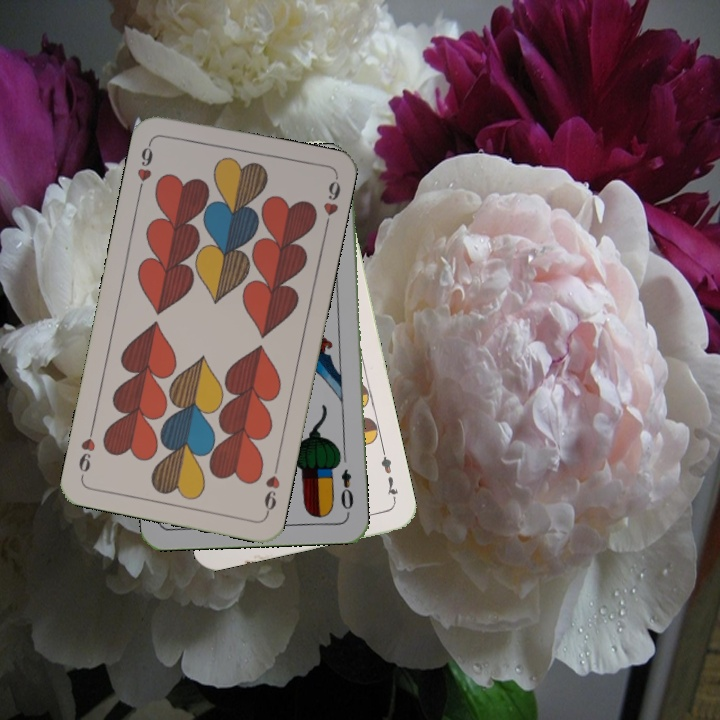E7: (377, 446, 401, 505)
EO: (336, 465, 356, 512)
H9: (260, 459, 283, 518), (133, 137, 156, 195)
